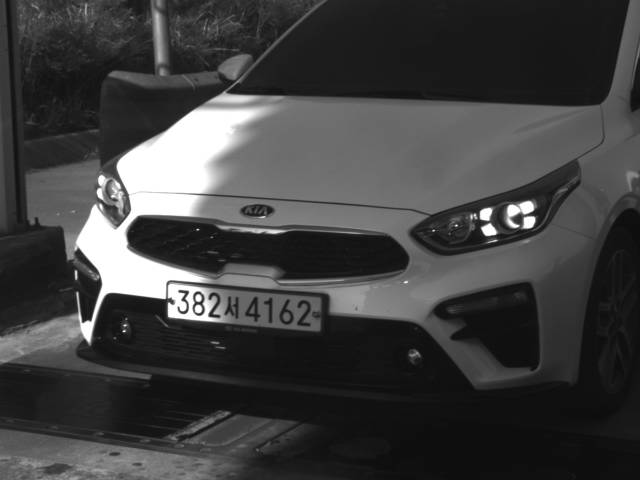car: (71, 1, 640, 422)
plate: (166, 280, 329, 337)
